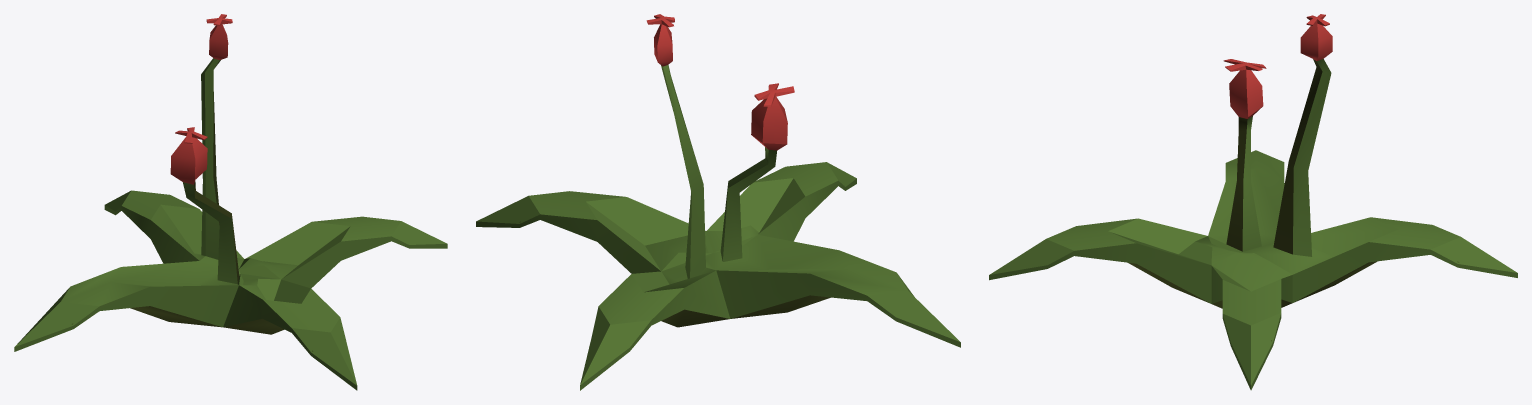
Rendered from flowerSM_20210127.fbx.
3 views of the same model, side by side, from view 1: azimuth 30°, elevation 25°; view 2: azimuth 150°, elevation 25°; view 3: azimuth 270°, elevation 25° (orthographic). The views are drawn at different scales.
Visible parts, largest first — view 1: flowers.002; view 2: flowers.002; view 3: flowers.002.
Part boxes in pixels (x1=…): flowers.002: x1=14, y1=14, x2=447, y2=390; flowers.002: x1=476, y1=14, x2=960, y2=390; flowers.002: x1=989, y1=14, x2=1517, y2=390.
Bounding box in the file's own units: 0.3383 × 0.1967 × 0.3383.
